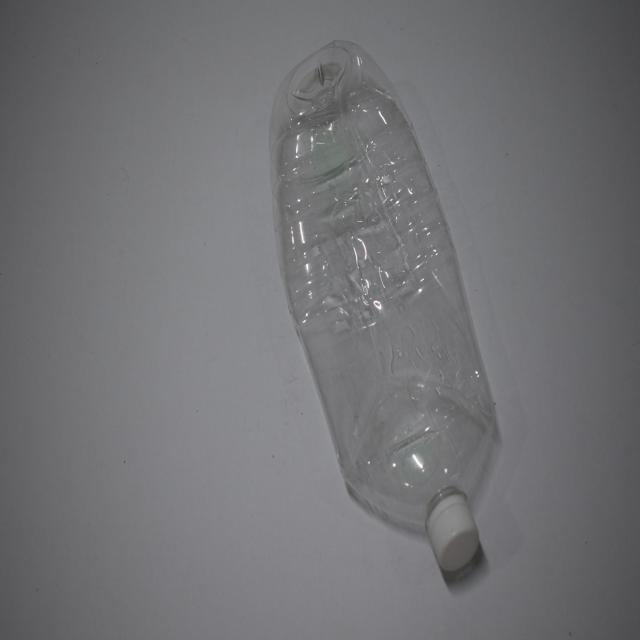empty: (270, 41, 495, 570)
